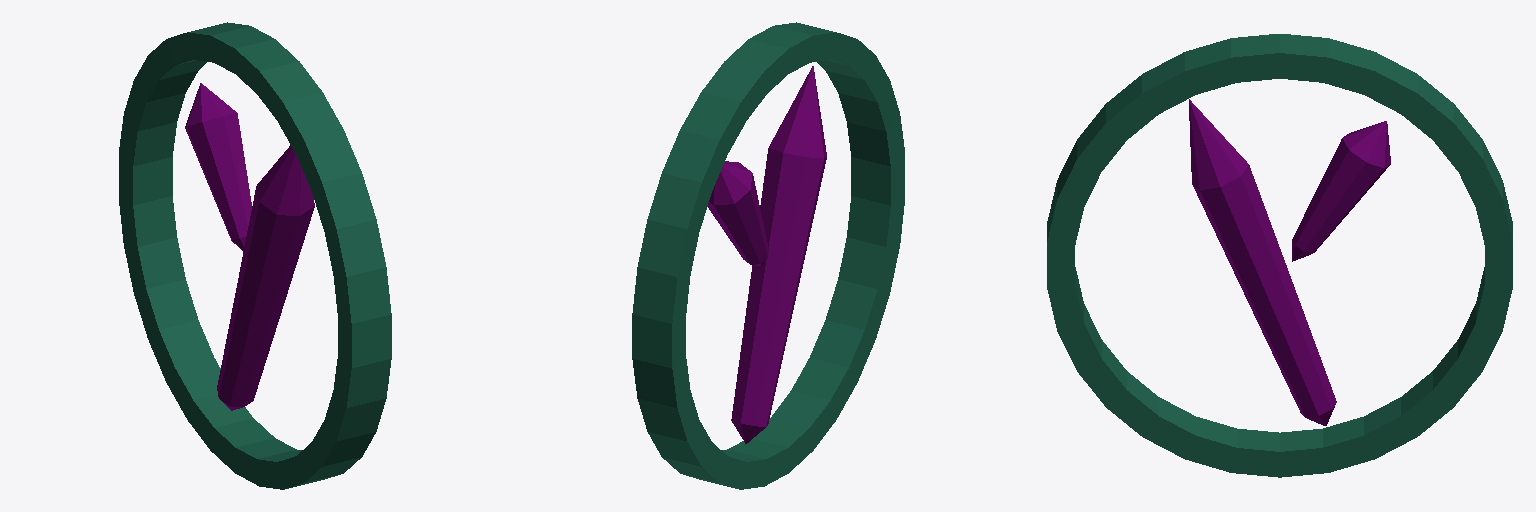
The model's file is badge.obj.
3 renders of one model, left to right at view 1: azimuth 30°, elevation 25°; view 2: azimuth 150°, elevation 25°; view 3: azimuth 270°, elevation 25°, orthographic.
Parts seen in each view (by area): view 1: pCylinder1, pCube3 polySurface1, polySurface2 pCube3; view 2: pCylinder1, pCube3 polySurface1, polySurface2 pCube3; view 3: pCylinder1, pCube3 polySurface1, polySurface2 pCube3.
Part boxes in pixels (bbox=[...]): pCylinder1: bbox=[119, 22, 391, 489]; pCube3 polySurface1: bbox=[217, 145, 314, 410]; polySurface2 pCube3: bbox=[185, 83, 251, 251]; pCylinder1: bbox=[632, 22, 904, 489]; pCube3 polySurface1: bbox=[731, 66, 826, 443]; polySurface2 pCube3: bbox=[708, 161, 768, 265]; pCylinder1: bbox=[1047, 34, 1512, 477]; pCube3 polySurface1: bbox=[1189, 99, 1336, 425]; polySurface2 pCube3: bbox=[1292, 121, 1390, 261].
Size of the model in its own units: 0.3924 by 3.01 by 2.99.